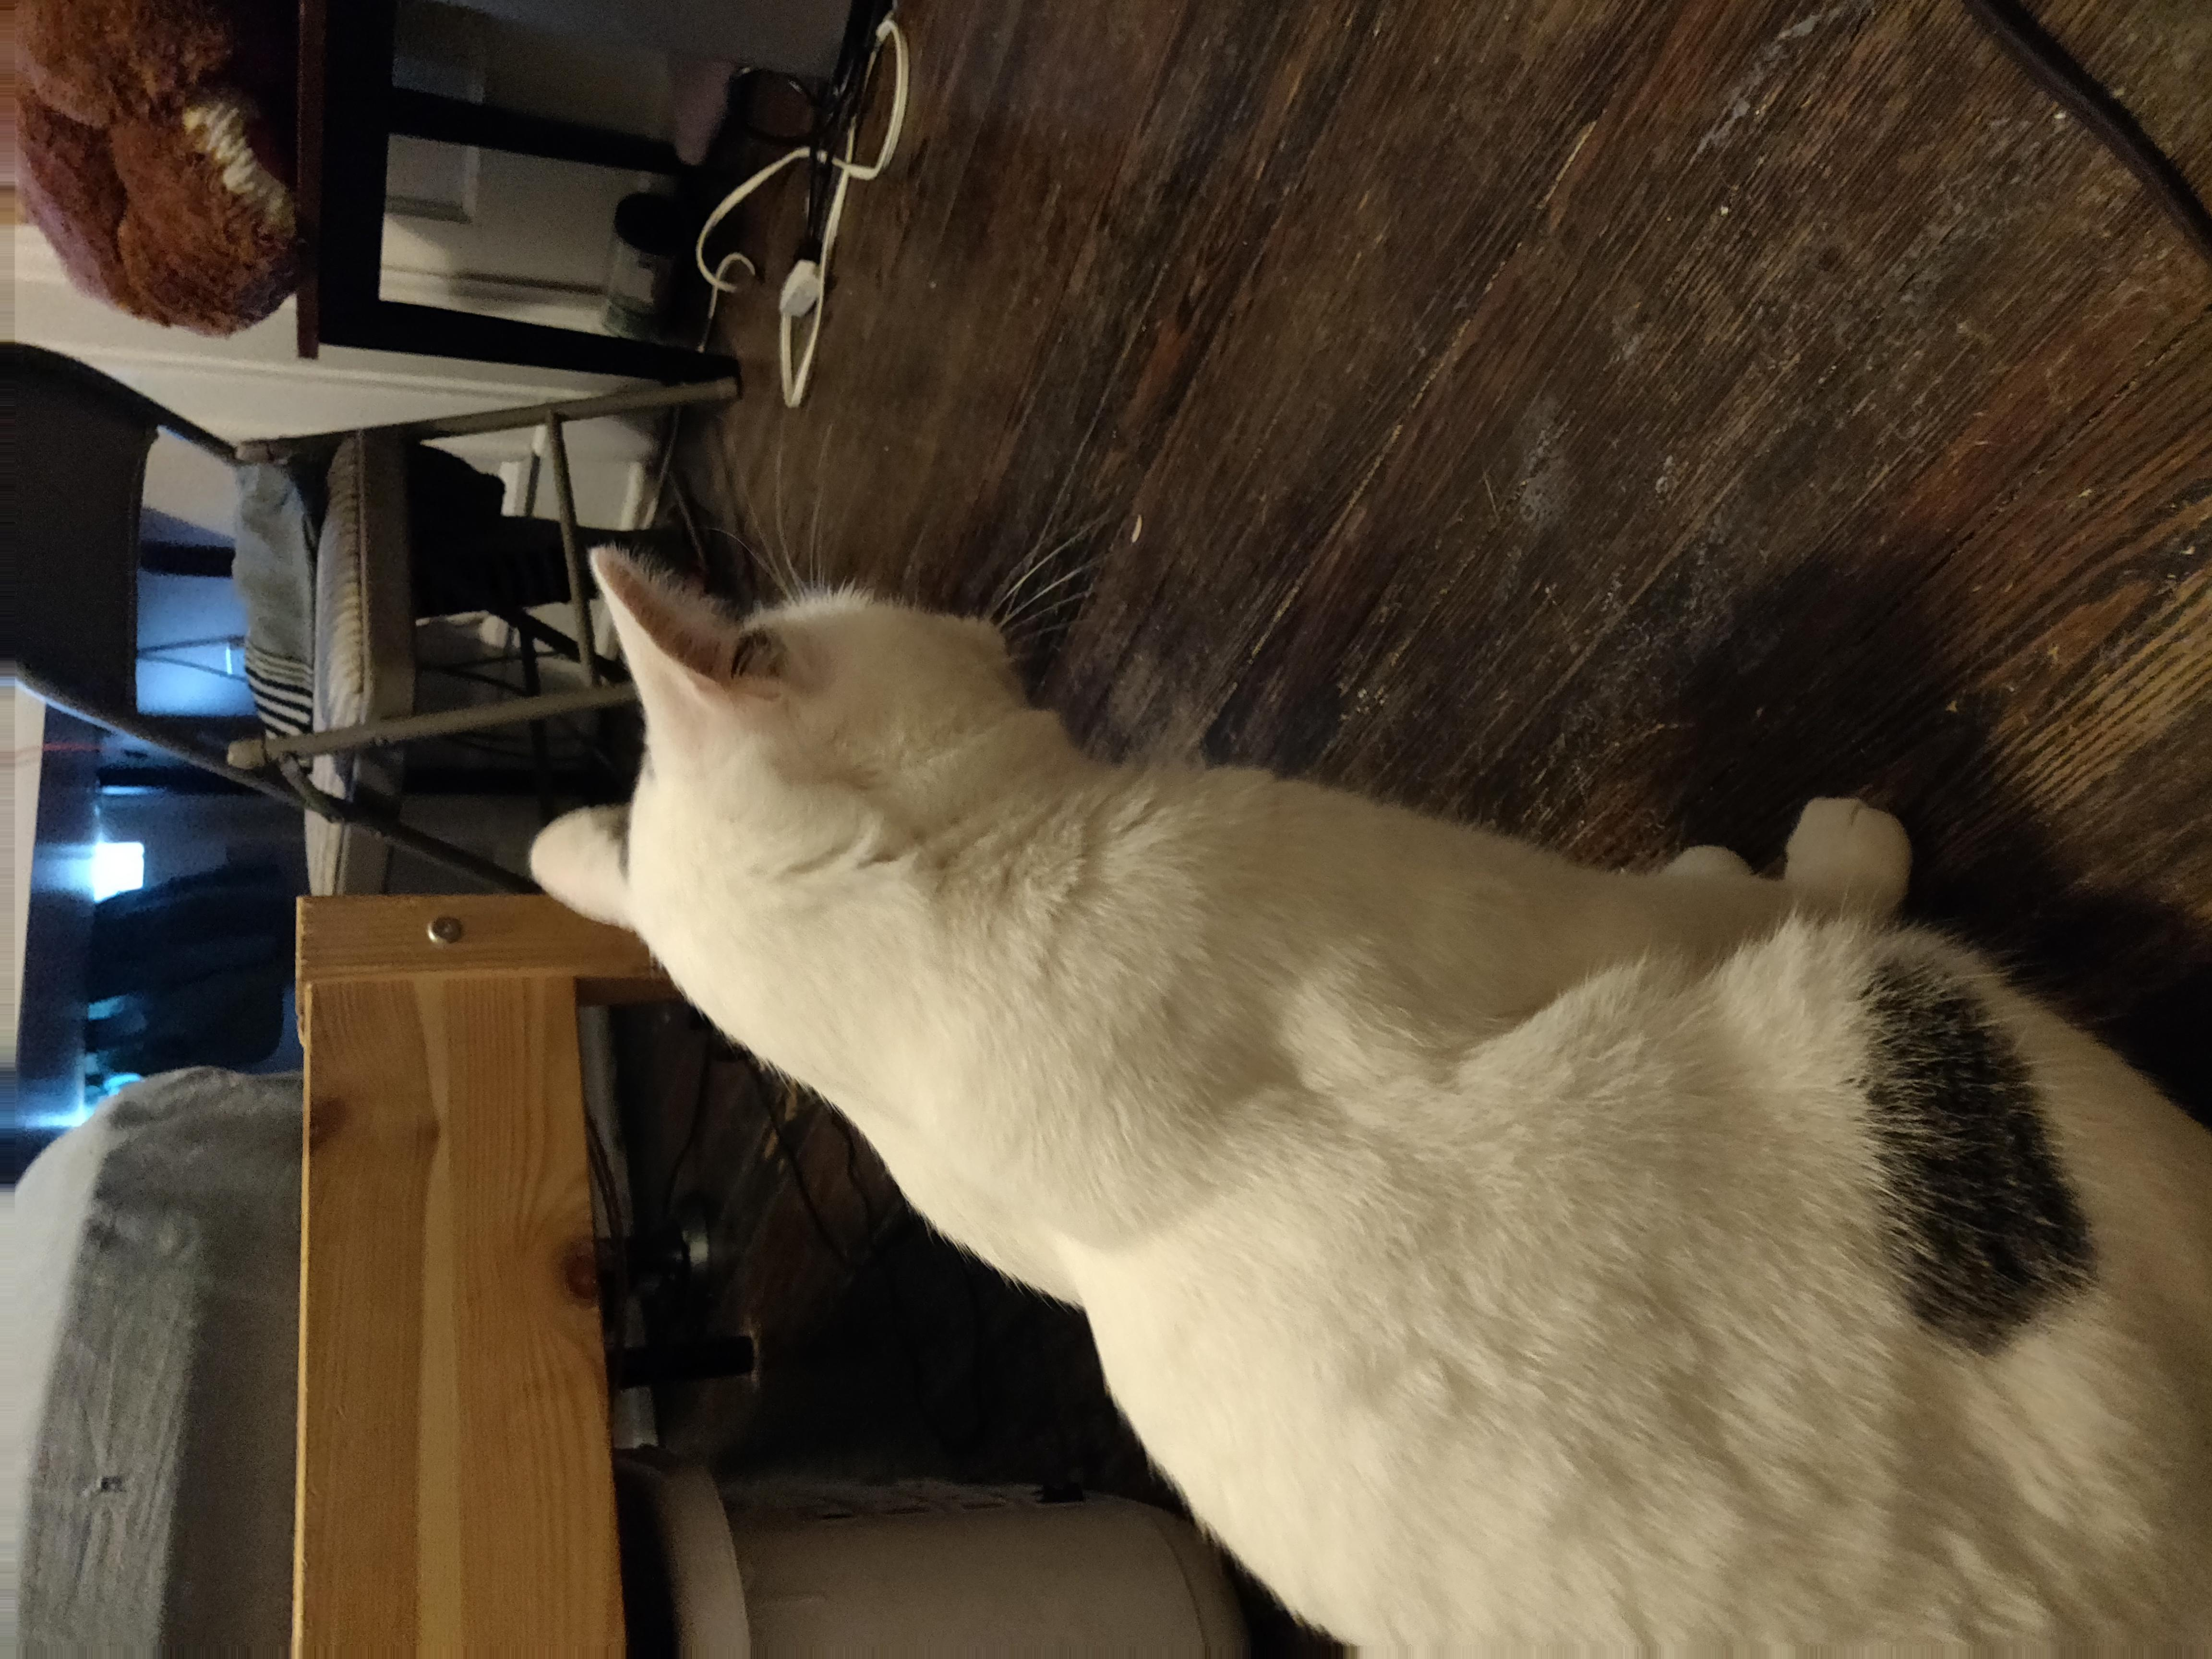cat: (536, 500, 2212, 1659)
